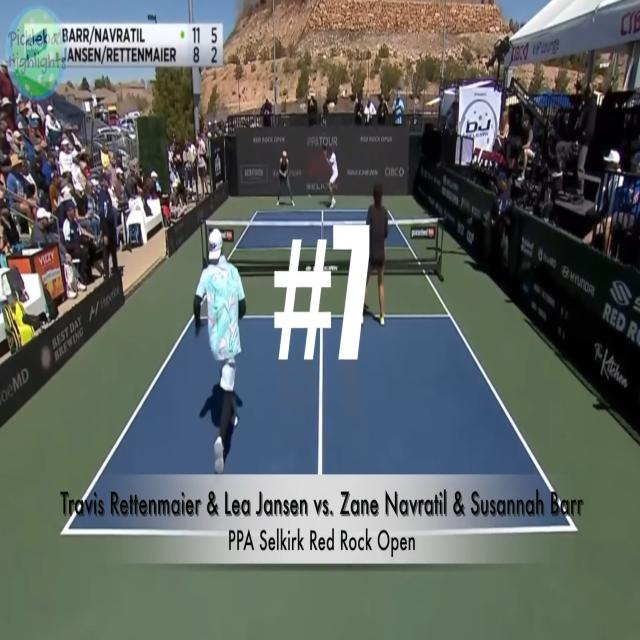ball: (306, 188, 315, 203)
